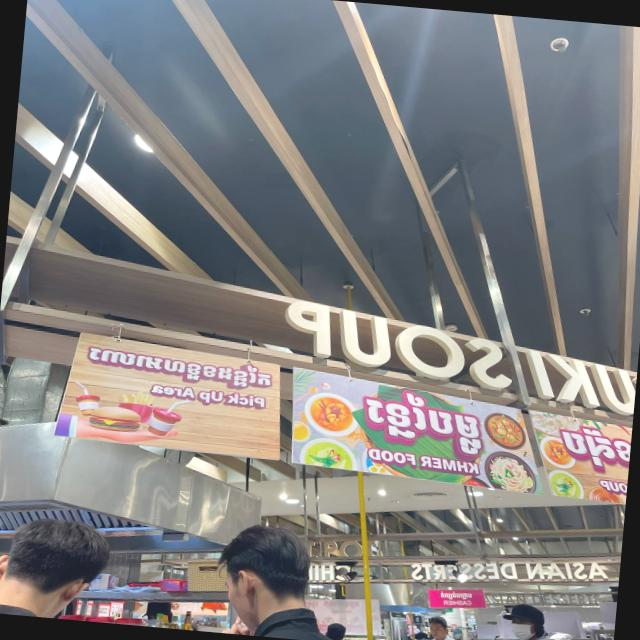Yolov11kh: (80, 338, 276, 394), (360, 387, 485, 459), (558, 424, 619, 472)
